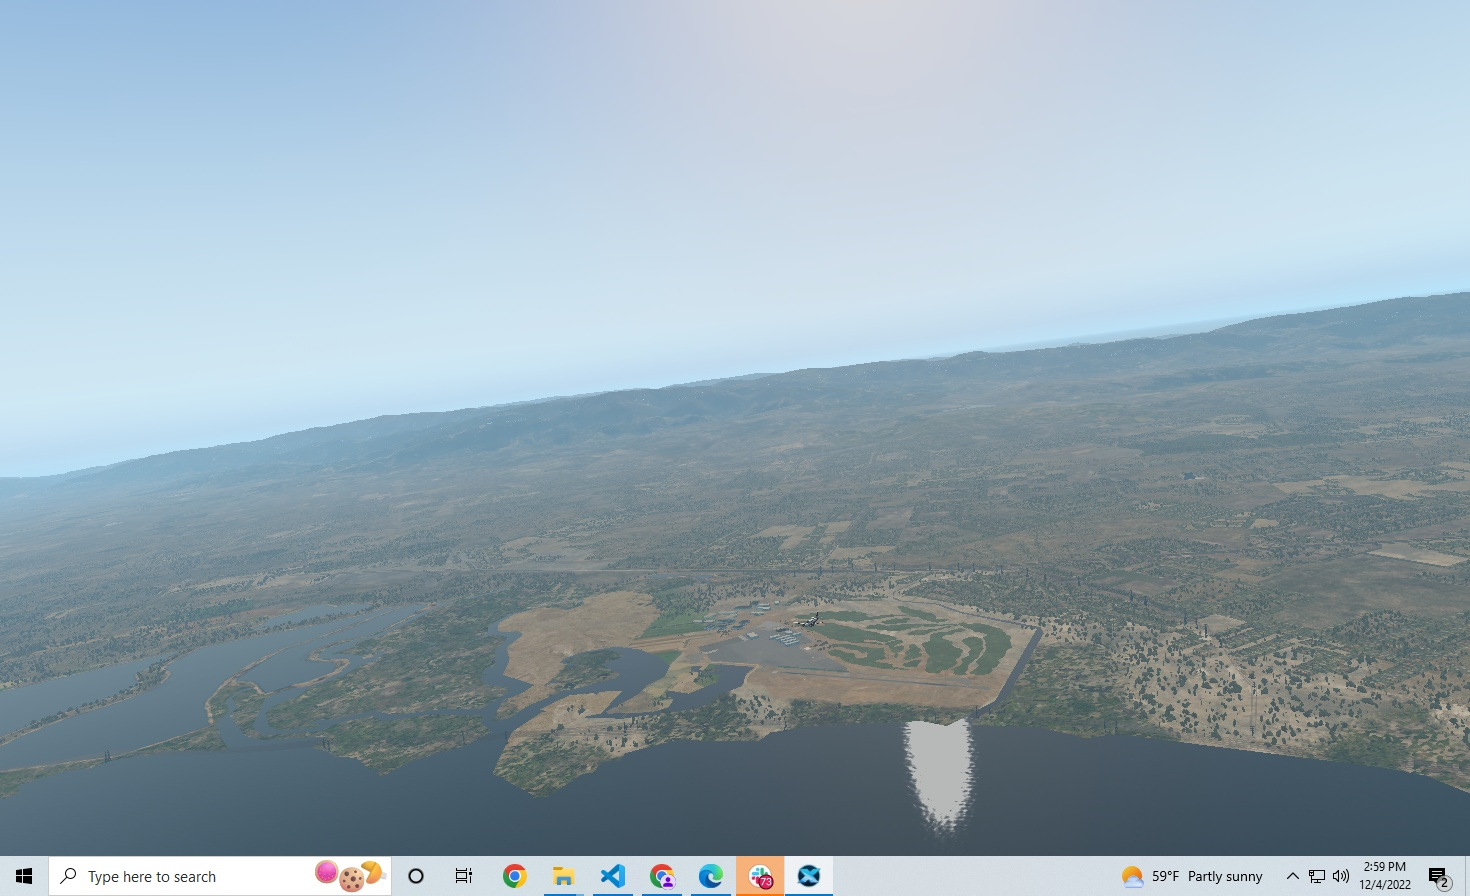aircraft: (781, 614, 839, 635)
